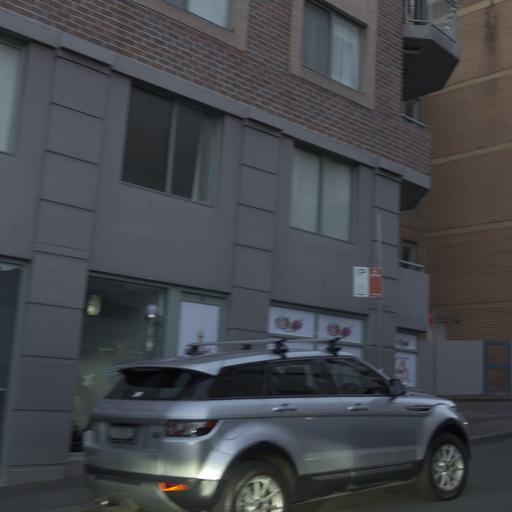Street light: (81, 333, 472, 511), (142, 302, 161, 355), (85, 292, 102, 316)
